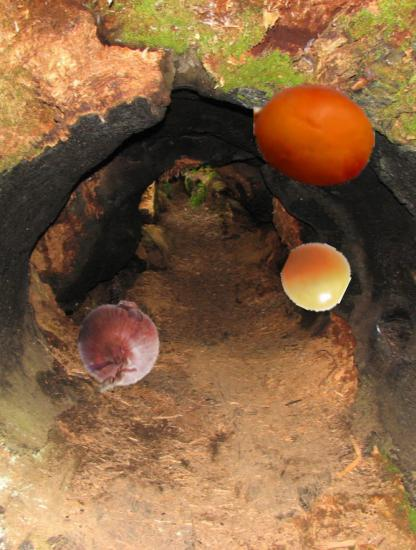Apricot: (253, 74, 376, 197)
Cherry: (281, 242, 349, 310)
Onion: (70, 299, 167, 396)
